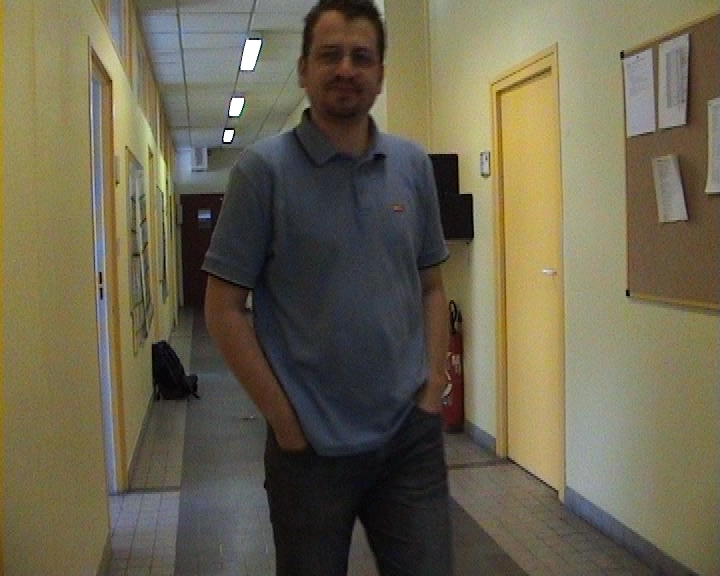leave bag unattended: (139, 328, 210, 425)
